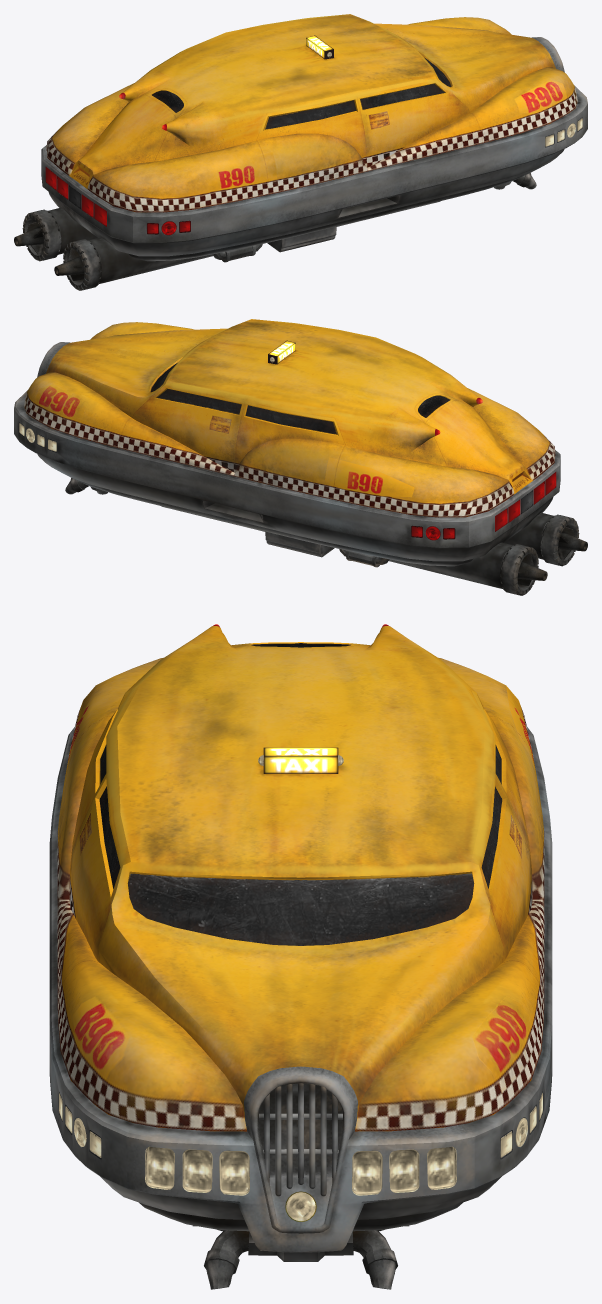
Rendered from fifth-element-taxi.glb.
3 views of the same model, one above another, from view 1: azimuth 30°, elevation 25°; view 2: azimuth 150°, elevation 25°; view 3: azimuth 270°, elevation 25° (orthographic). The views are drawn at different scales.
Parts seen in each view (by area): view 1: Cube.001; view 2: Cube.001; view 3: Cube.001.
Part boxes in pixels (x1,y1,x2,y2): Cube.001: [14, 14, 587, 290]; Cube.001: [14, 319, 587, 595]; Cube.001: [49, 624, 552, 1289].
Size of the model in its own units: 15.63 by 5 by 6.45.
8 materials, 8 textured.
